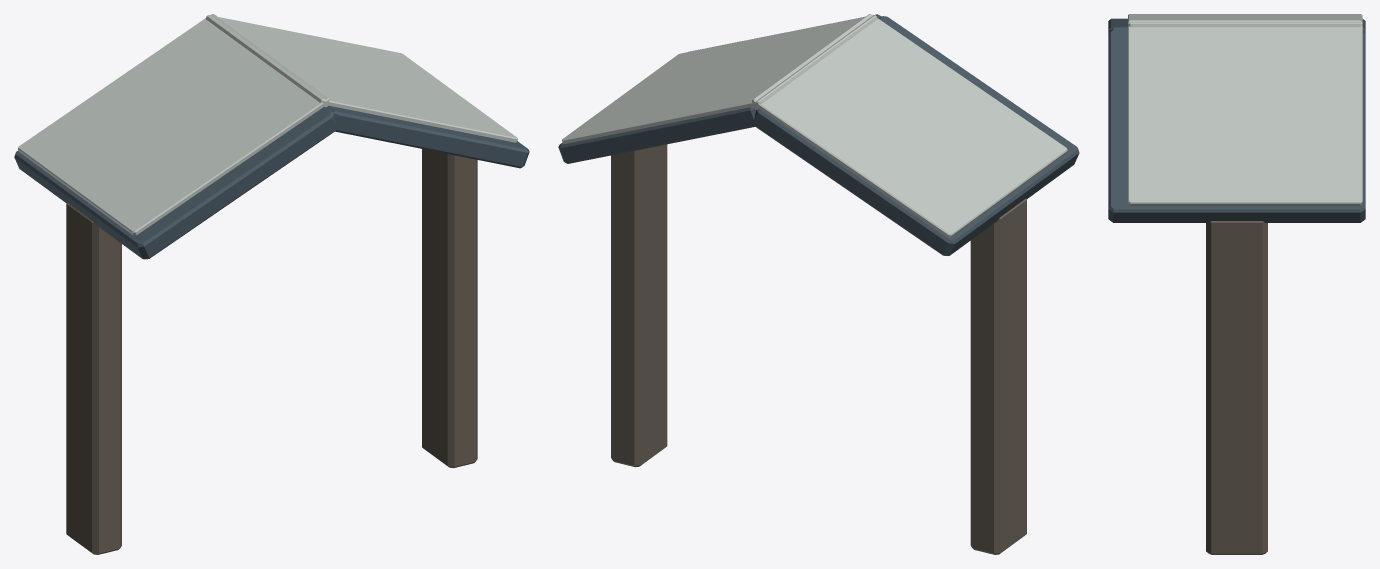
File: roof-canopy.glb
3 renders of one model, left to right at view 1: azimuth 30°, elevation 25°; view 2: azimuth 150°, elevation 25°; view 3: azimuth 270°, elevation 25°, orthographic.
Parts seen in each view (by area): view 1: roof-canopy__body; view 2: roof-canopy__body; view 3: roof-canopy__body.
Part boxes in pixels (x1,y1,x2,y2): roof-canopy__body: (14, 14, 529, 554); roof-canopy__body: (558, 14, 1079, 554); roof-canopy__body: (1108, 14, 1365, 554).
Size of the model in its own units: 2.21 by 2.36 by 1.25.
